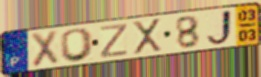8: (174, 14, 201, 49)
J: (205, 8, 236, 47)
O: (59, 27, 96, 63)
X: (130, 17, 164, 57), (29, 29, 61, 70)
Z: (99, 22, 130, 60)
